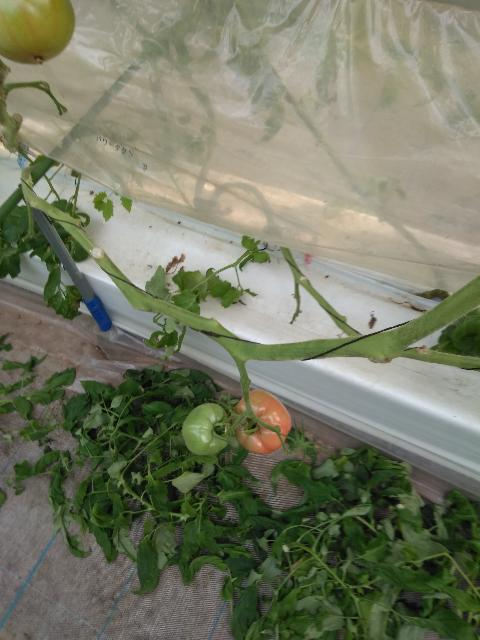b_green: (0, 0, 75, 65), (181, 403, 233, 456)
b_half_ripened: (232, 389, 292, 454)
